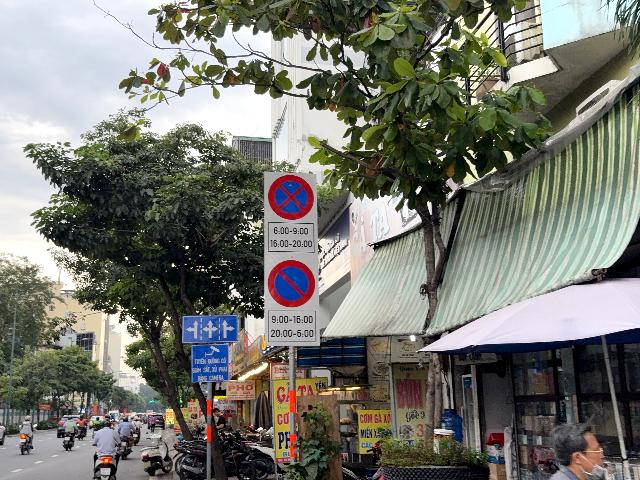cam-do-xe: (267, 260, 315, 308)
cam-dung-va-do-xe: (268, 175, 314, 220)
